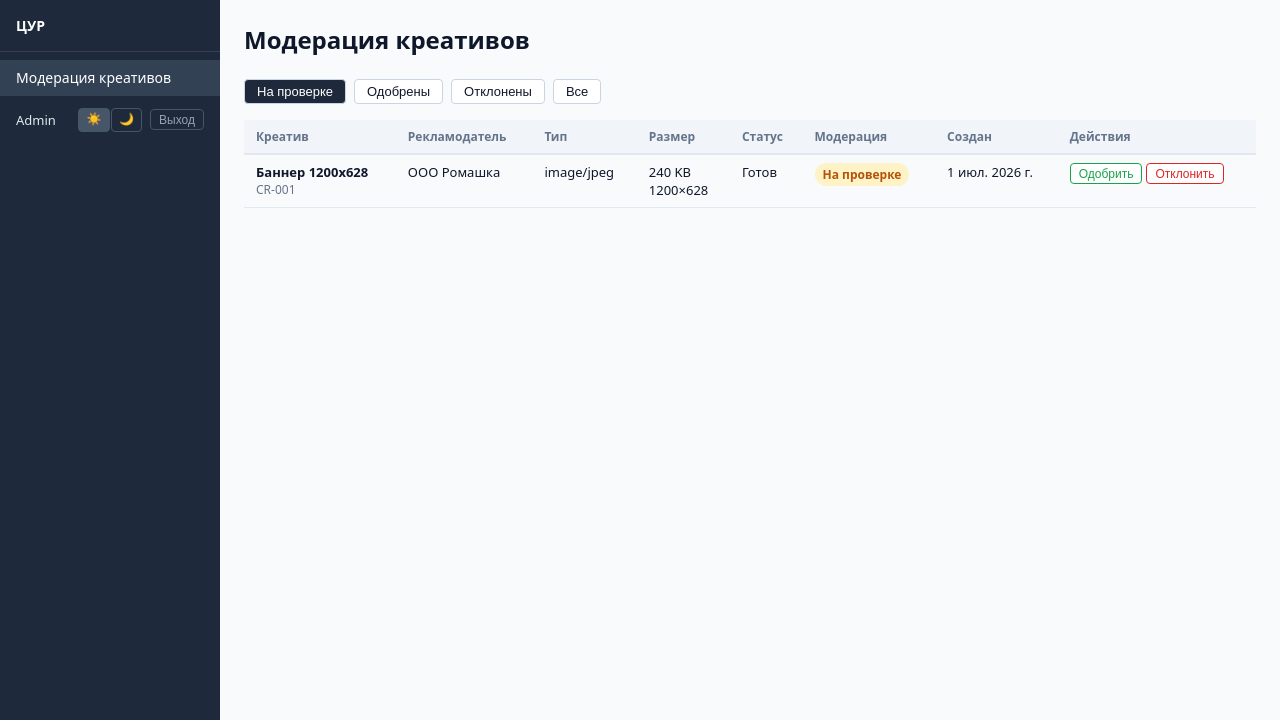
Test: CreativeModerationPage — S-036 › shows error when approve fails
Click the button with test id "moderation-approve-CR-001". click: (1106, 174)
box: x1=1070 y1=163 x2=1142 y2=184
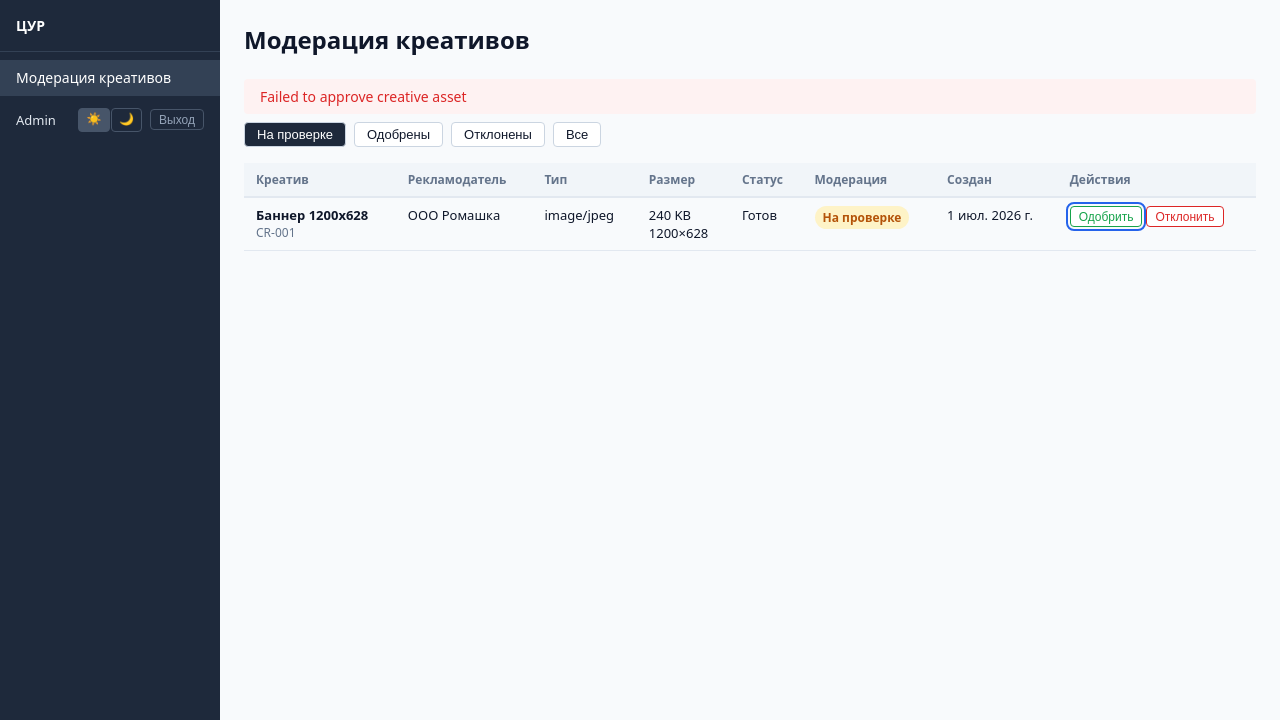
Expected: the text "Failed to approve creative asset" is shown, x1=244 y1=79 x2=1256 y2=114
